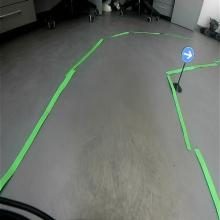right: (181, 46, 195, 63)
